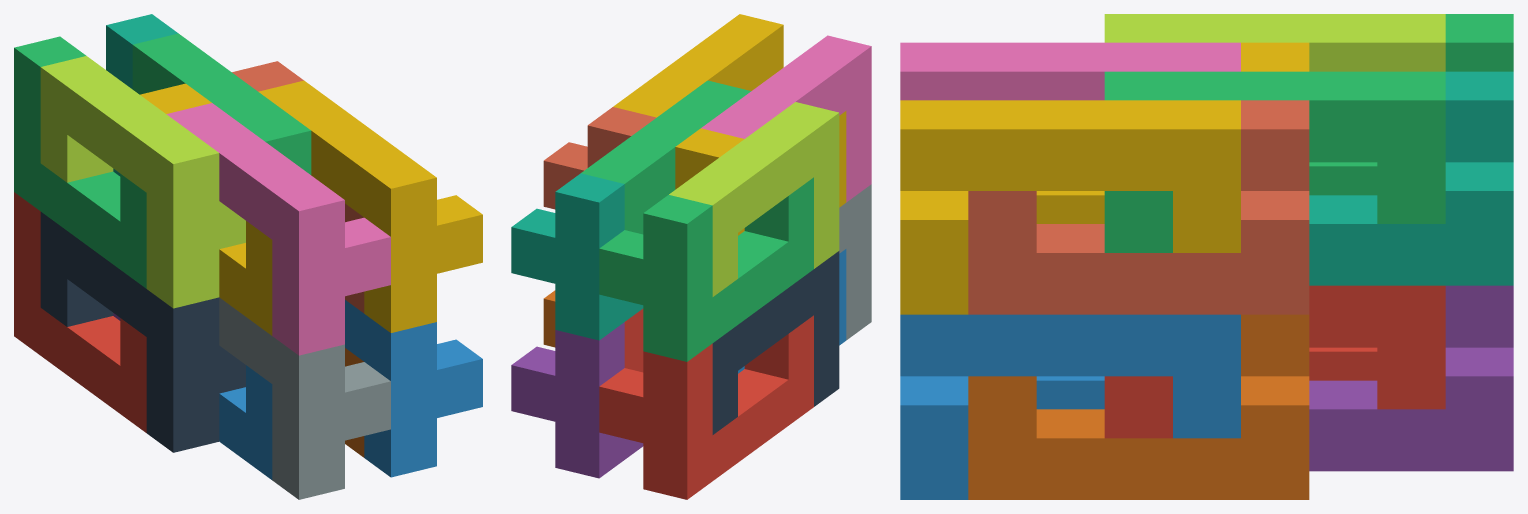
The model's file is tiling.obj.
The picture shows the model from 3 angles, left to right: view 1: azimuth 30°, elevation 25°; view 2: azimuth 150°, elevation 25°; view 3: azimuth 270°, elevation 25°; orthographic projection. The views are drawn at different scales.
Visible parts, largest first — view 1: copy_2_domain_3, copy_2_domain_4, copy_2_domain_8, copy_2_domain_1, copy_2_domain_2, copy_2_domain_6, copy_1_domain_3, copy_1_domain_1, copy_2_domain_7, copy_1_domain_4, copy_1_domain_2, copy_1_domain_7 (+1 smaller); view 2: copy_1_domain_3, copy_1_domain_1, copy_2_domain_3, copy_1_domain_7, copy_1_domain_5, copy_2_domain_4, copy_2_domain_1, copy_2_domain_7, copy_2_domain_8, copy_2_domain_2, copy_1_domain_8, copy_1_domain_4 (+3 smaller); view 3: copy_2_domain_8, copy_1_domain_8, copy_1_domain_6, copy_2_domain_6, copy_2_domain_7, copy_1_domain_7, copy_1_domain_5, copy_2_domain_5, copy_2_domain_4, copy_2_domain_3, copy_1_domain_3, copy_1_domain_4 (+2 smaller).
Boxes of the visible parts, x1,y1,x2,y2 form: copy_2_domain_3: [40, 56, 245, 308]; copy_2_domain_4: [166, 103, 390, 355]; copy_2_domain_8: [258, 80, 482, 332]; copy_2_domain_1: [40, 212, 245, 452]; copy_2_domain_2: [219, 297, 390, 499]; copy_2_domain_6: [345, 300, 482, 477]; copy_1_domain_3: [14, 36, 146, 288]; copy_1_domain_1: [14, 192, 146, 432]; copy_2_domain_7: [132, 33, 311, 174]; copy_1_domain_4: [140, 83, 272, 335]; copy_1_domain_2: [219, 365, 272, 479]; copy_1_domain_7: [106, 14, 178, 176]; copy_1_domain_3: [599, 177, 813, 361]; copy_1_domain_1: [599, 315, 813, 499]; copy_2_domain_3: [669, 102, 839, 296]; copy_1_domain_7: [511, 173, 643, 340]; copy_1_domain_5: [511, 322, 643, 478]; copy_2_domain_4: [701, 35, 871, 202]; copy_2_domain_1: [712, 251, 839, 434]; copy_2_domain_7: [581, 80, 751, 234]; copy_2_domain_8: [613, 14, 783, 117]; copy_2_domain_2: [839, 184, 871, 340]; copy_1_domain_8: [543, 107, 656, 209]; copy_1_domain_4: [675, 111, 846, 235]; copy_2_domain_8: [900, 100, 1240, 314]; copy_1_domain_8: [968, 100, 1309, 314]; copy_1_domain_6: [968, 314, 1309, 499]; copy_2_domain_6: [900, 314, 1240, 499]; copy_2_domain_7: [1104, 71, 1445, 252]; copy_1_domain_7: [1309, 71, 1513, 285]; copy_1_domain_5: [1309, 285, 1513, 471]; copy_2_domain_5: [1104, 285, 1445, 438]; copy_2_domain_4: [900, 42, 1240, 100]; copy_2_domain_3: [1104, 14, 1445, 71]; copy_1_domain_3: [1309, 14, 1513, 195]; copy_1_domain_4: [1036, 42, 1309, 223].
Bounding box in the file's own units: 5 × 6 × 9.
